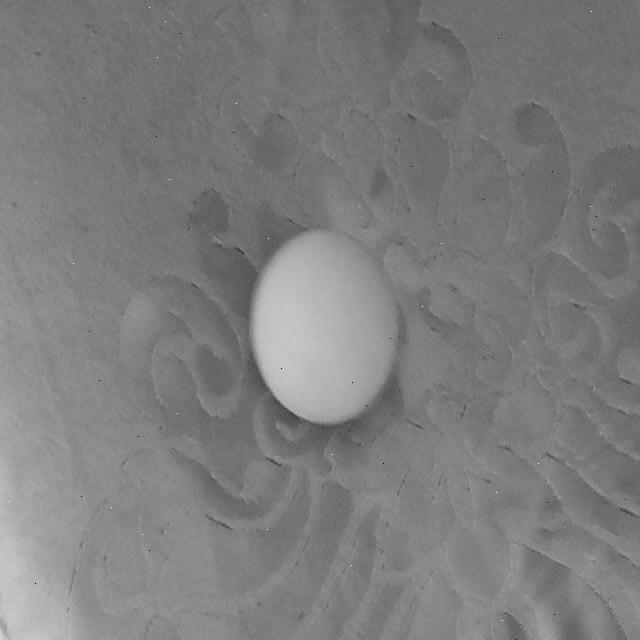ping-pong-ball: (256, 236, 396, 422)
